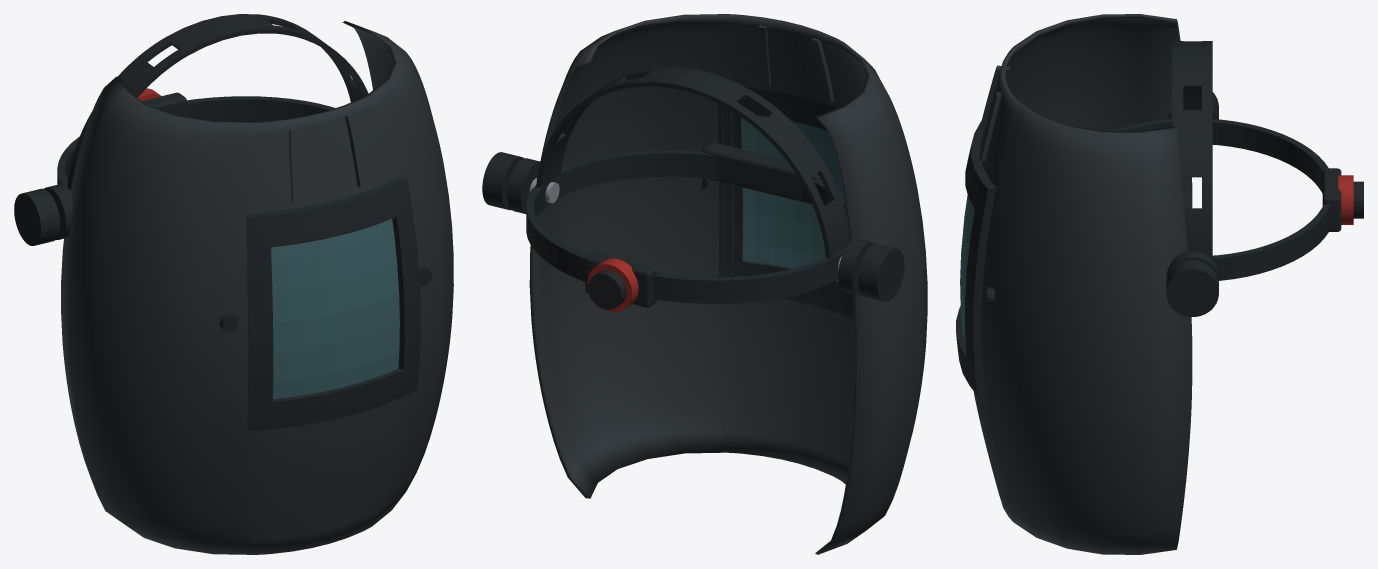
Rendered from full.fbx.
3 views of the same model, side by side, from view 1: azimuth 30°, elevation 25°; view 2: azimuth 150°, elevation 25°; view 3: azimuth 270°, elevation 25° (orthographic). The views are drawn at different scales.
Visible parts, largest first — view 1: Deep curved open back face shell, Opaque inset viewing panel, Thick window surround, Perforated curved crown band, Oval forehead and rear band, Outer tightening knob -1, Side pivot disk -1, Raised forehead ridge 1, Raised forehead ridge -1, Rear headgear support pad; view 2: Deep curved open back face shell, Oval forehead and rear band, Perforated curved crown band, Opaque inset viewing panel, Thick window surround, Front dark forehead pad, Outer tightening knob -1, Outer tightening knob 1, Rear headgear support pad, Side pivot disk 1, Rear adjustment knob, Side pivot disk -1 (+3 smaller); view 3: Deep curved open back face shell, Perforated curved crown band, Oval forehead and rear band, Thick window surround, Outer tightening knob 1, Rear headgear support pad, Opaque inset viewing panel, Rear red adjuster rim, Raised forehead ridge 1, Side pivot disk 1.
Part boxes in pixels (bbox=[...]): Deep curved open back face shell: bbox=[61, 21, 453, 554]; Opaque inset viewing panel: bbox=[271, 219, 399, 399]; Thick window surround: bbox=[247, 177, 420, 431]; Perforated curved crown band: bbox=[67, 14, 368, 190]; Oval forehead and rear band: bbox=[57, 96, 335, 186]; Outer tightening knob -1: bbox=[14, 188, 60, 245]; Side pivot disk -1: bbox=[44, 184, 72, 239]; Raised forehead ridge 1: bbox=[345, 114, 368, 187]; Raised forehead ridge -1: bbox=[289, 128, 302, 202]; Rear headgear support pad: bbox=[142, 92, 186, 116]; Deep curved open back face shell: bbox=[529, 14, 927, 554]; Oval forehead and rear band: bbox=[526, 150, 846, 303]; Perforated curved crown band: bbox=[536, 66, 849, 258]; Opaque inset viewing panel: bbox=[741, 115, 843, 280]; Thick window surround: bbox=[718, 87, 853, 318]; Front dark forehead pad: bbox=[703, 142, 821, 204]; Outer tightening knob -1: bbox=[858, 243, 904, 301]; Outer tightening knob 1: bbox=[482, 152, 524, 210]; Rear headgear support pad: bbox=[585, 252, 657, 307]; Side pivot disk 1: bbox=[507, 158, 540, 213]; Rear adjustment knob: bbox=[588, 270, 626, 309]; Side pivot disk -1: bbox=[838, 239, 874, 295]; Deep curved open back face shell: bbox=[973, 14, 1192, 554]; Perforated curved crown band: bbox=[1172, 41, 1212, 258]; Oval forehead and rear band: bbox=[1111, 119, 1331, 280]; Thick window surround: bbox=[956, 121, 996, 394]; Outer tightening knob 1: bbox=[1166, 260, 1218, 316]; Rear headgear support pad: bbox=[1322, 168, 1341, 231]; Opaque inset viewing panel: bbox=[960, 195, 974, 343]; Rear red adjuster rim: bbox=[1338, 175, 1353, 224]; Raised forehead ridge 1: bbox=[979, 92, 1001, 161]; Side pivot disk 1: bbox=[1166, 251, 1218, 281].
Size of the model in its own units: 28.4 by 31.18 by 26.3.
